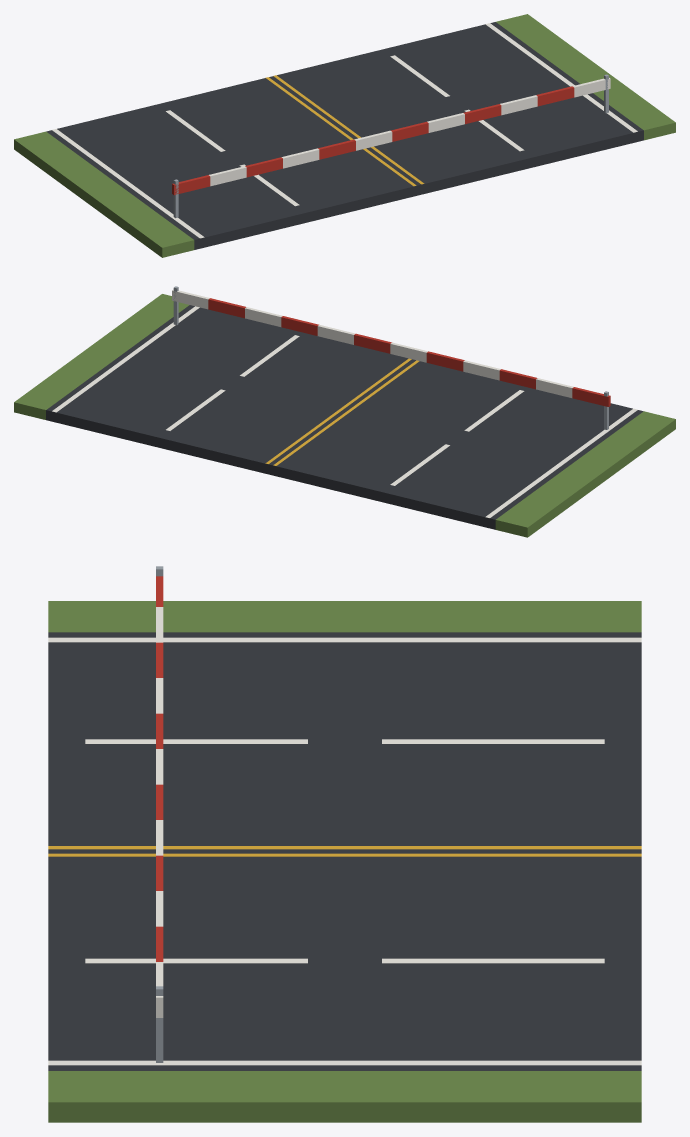
Rendered from Road_4Lane_NoSidewalk_EndCap_Barrier.glb.
The picture shows the model from 3 angles, top to bottom: view 1: azimuth 30°, elevation 25°; view 2: azimuth 150°, elevation 25°; view 3: azimuth 270°, elevation 25°; orthographic projection. The views are drawn at different scales.
Visible parts, largest first — view 1: Road_4Lane_NoSidewalk_EndCap_Barrier_Asphalt, Road_4Lane_NoSidewalk_EndCap_Barrier_Grass-edge, Road_4Lane_NoSidewalk_EndCap_Barrier_PaintWhite, Road_4Lane_NoSidewalk_EndCap_Barrier_SignRed, Road_4Lane_NoSidewalk_EndCap_Barrier_PaintYellow, Road_4Lane_NoSidewalk_EndCap_Barrier_Metal; view 2: Road_4Lane_NoSidewalk_EndCap_Barrier_Asphalt, Road_4Lane_NoSidewalk_EndCap_Barrier_Grass-edge, Road_4Lane_NoSidewalk_EndCap_Barrier_PaintWhite, Road_4Lane_NoSidewalk_EndCap_Barrier_SignRed, Road_4Lane_NoSidewalk_EndCap_Barrier_PaintYellow; view 3: Road_4Lane_NoSidewalk_EndCap_Barrier_Asphalt, Road_4Lane_NoSidewalk_EndCap_Barrier_Grass-edge, Road_4Lane_NoSidewalk_EndCap_Barrier_PaintWhite, Road_4Lane_NoSidewalk_EndCap_Barrier_PaintYellow, Road_4Lane_NoSidewalk_EndCap_Barrier_SignRed.
Part boxes in pixels (x1,y1,x2,y2): Road_4Lane_NoSidewalk_EndCap_Barrier_Asphalt: [46, 22, 643, 249]; Road_4Lane_NoSidewalk_EndCap_Barrier_Grass-edge: [14, 14, 675, 257]; Road_4Lane_NoSidewalk_EndCap_Barrier_PaintWhite: [52, 23, 637, 238]; Road_4Lane_NoSidewalk_EndCap_Barrier_SignRed: [172, 86, 574, 195]; Road_4Lane_NoSidewalk_EndCap_Barrier_PaintYellow: [265, 75, 424, 186]; Road_4Lane_NoSidewalk_EndCap_Barrier_Metal: [173, 74, 608, 218]; Road_4Lane_NoSidewalk_EndCap_Barrier_Asphalt: [46, 305, 643, 529]; Road_4Lane_NoSidewalk_EndCap_Barrier_Grass-edge: [14, 294, 675, 537]; Road_4Lane_NoSidewalk_EndCap_Barrier_PaintWhite: [52, 289, 637, 517]; Road_4Lane_NoSidewalk_EndCap_Barrier_SignRed: [208, 298, 610, 406]; Road_4Lane_NoSidewalk_EndCap_Barrier_PaintYellow: [265, 358, 419, 465]; Road_4Lane_NoSidewalk_EndCap_Barrier_Asphalt: [48, 632, 641, 1070]; Road_4Lane_NoSidewalk_EndCap_Barrier_Grass-edge: [48, 601, 641, 1122]; Road_4Lane_NoSidewalk_EndCap_Barrier_PaintWhite: [48, 607, 641, 1065]; Road_4Lane_NoSidewalk_EndCap_Barrier_PaintYellow: [48, 846, 641, 856]; Road_4Lane_NoSidewalk_EndCap_Barrier_SignRed: [156, 576, 163, 961].
Bounding box in the file's own units: 16 × 1.4 × 8.
